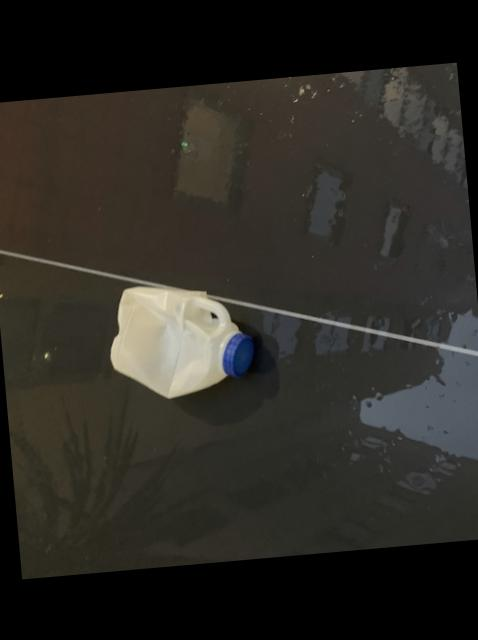plastic: (109, 287, 252, 398)
